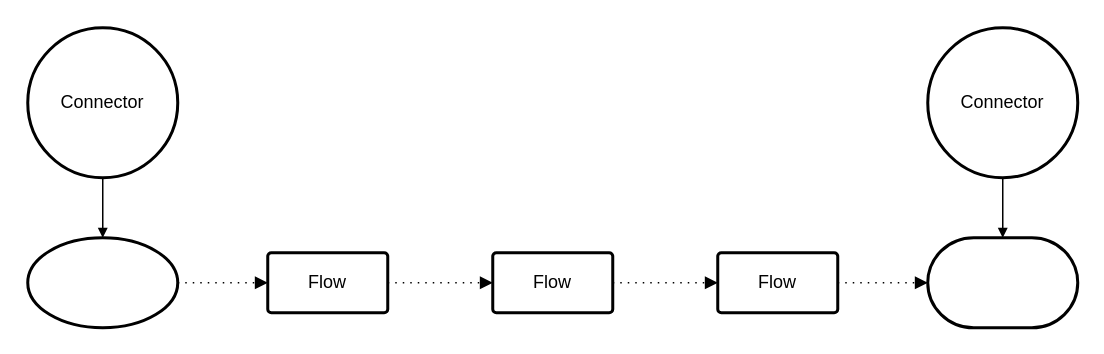
This 1104x354 diagram has some shape labels left out. The centre of each missing label's shape, as x and y in pixels:
"Sink" belongs at (x=1002, y=282).
"Source" belongs at (x=102, y=282).
